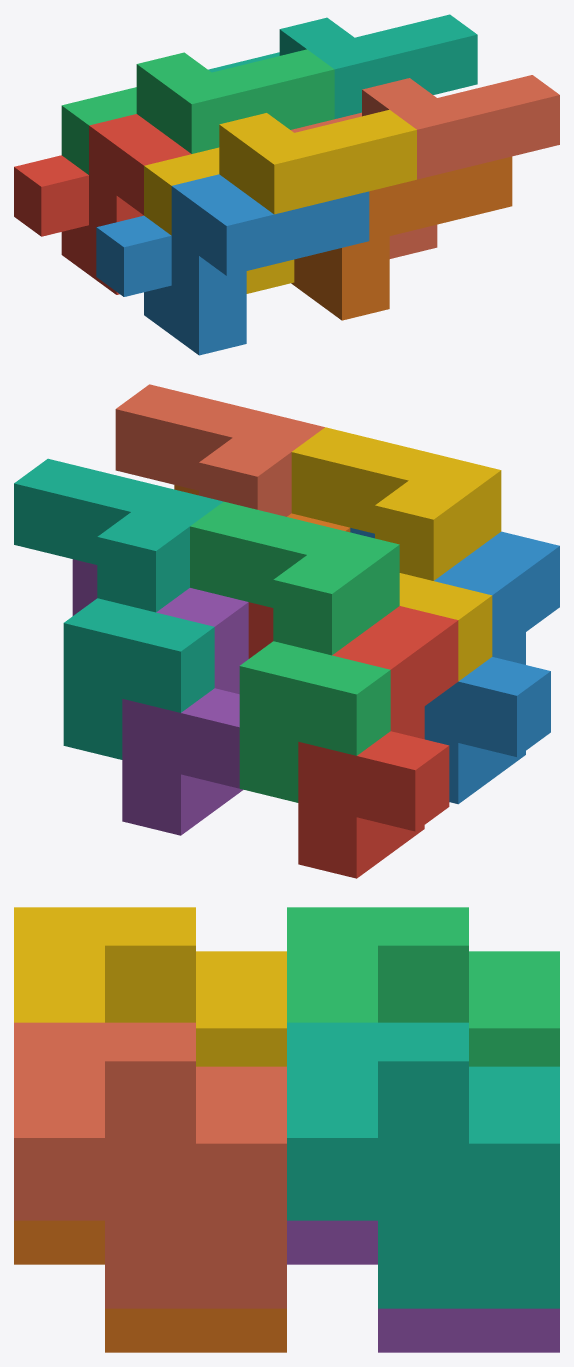
File: tiling.obj
3 views of the same model, one above another, from view 1: azimuth 30°, elevation 25°; view 2: azimuth 150°, elevation 25°; view 3: azimuth 270°, elevation 25° (orthographic). The views are drawn at different scales.
Parts seen in each view (by area): view 1: copy_1_domain_2, copy_1_domain_4, copy_1_domain_3, copy_1_domain_8, copy_1_domain_1, copy_1_domain_6, copy_1_domain_7; view 2: copy_1_domain_3, copy_1_domain_7, copy_1_domain_1, copy_1_domain_4, copy_1_domain_2, copy_1_domain_5, copy_1_domain_8; view 3: copy_1_domain_7, copy_1_domain_8, copy_1_domain_3, copy_1_domain_4, copy_1_domain_5, copy_1_domain_6.
Part boxes in pixels (<box>): copy_1_domain_2: <box>96,174,369,355</box>; copy_1_domain_4: <box>144,109,416,293</box>; copy_1_domain_3: <box>61,49,334,174</box>; copy_1_domain_8: <box>291,75,559,258</box>; copy_1_domain_1: <box>14,114,191,294</box>; copy_1_domain_6: <box>291,156,512,320</box>; copy_1_domain_7: <box>208,14,477,118</box>; copy_1_domain_3: <box>190,501,399,802</box>; copy_1_domain_7: <box>14,458,223,759</box>; copy_1_domain_1: <box>248,602,458,878</box>; copy_1_domain_4: <box>291,427,501,681</box>; copy_1_domain_2: <box>350,528,559,804</box>; copy_1_domain_5: <box>72,559,248,835</box>; copy_1_domain_8: <box>115,384,324,516</box>; copy_1_domain_7: <box>287,1022,559,1308</box>; copy_1_domain_8: <box>14,1022,286,1308</box>; copy_1_domain_3: <box>287,907,559,1066</box>; copy_1_domain_4: <box>14,907,286,1066</box>; copy_1_domain_5: <box>287,1220,559,1352</box>; copy_1_domain_6: <box>14,1220,286,1352</box>.
Bounding box in the file's own units: 8 × 4 × 6.
